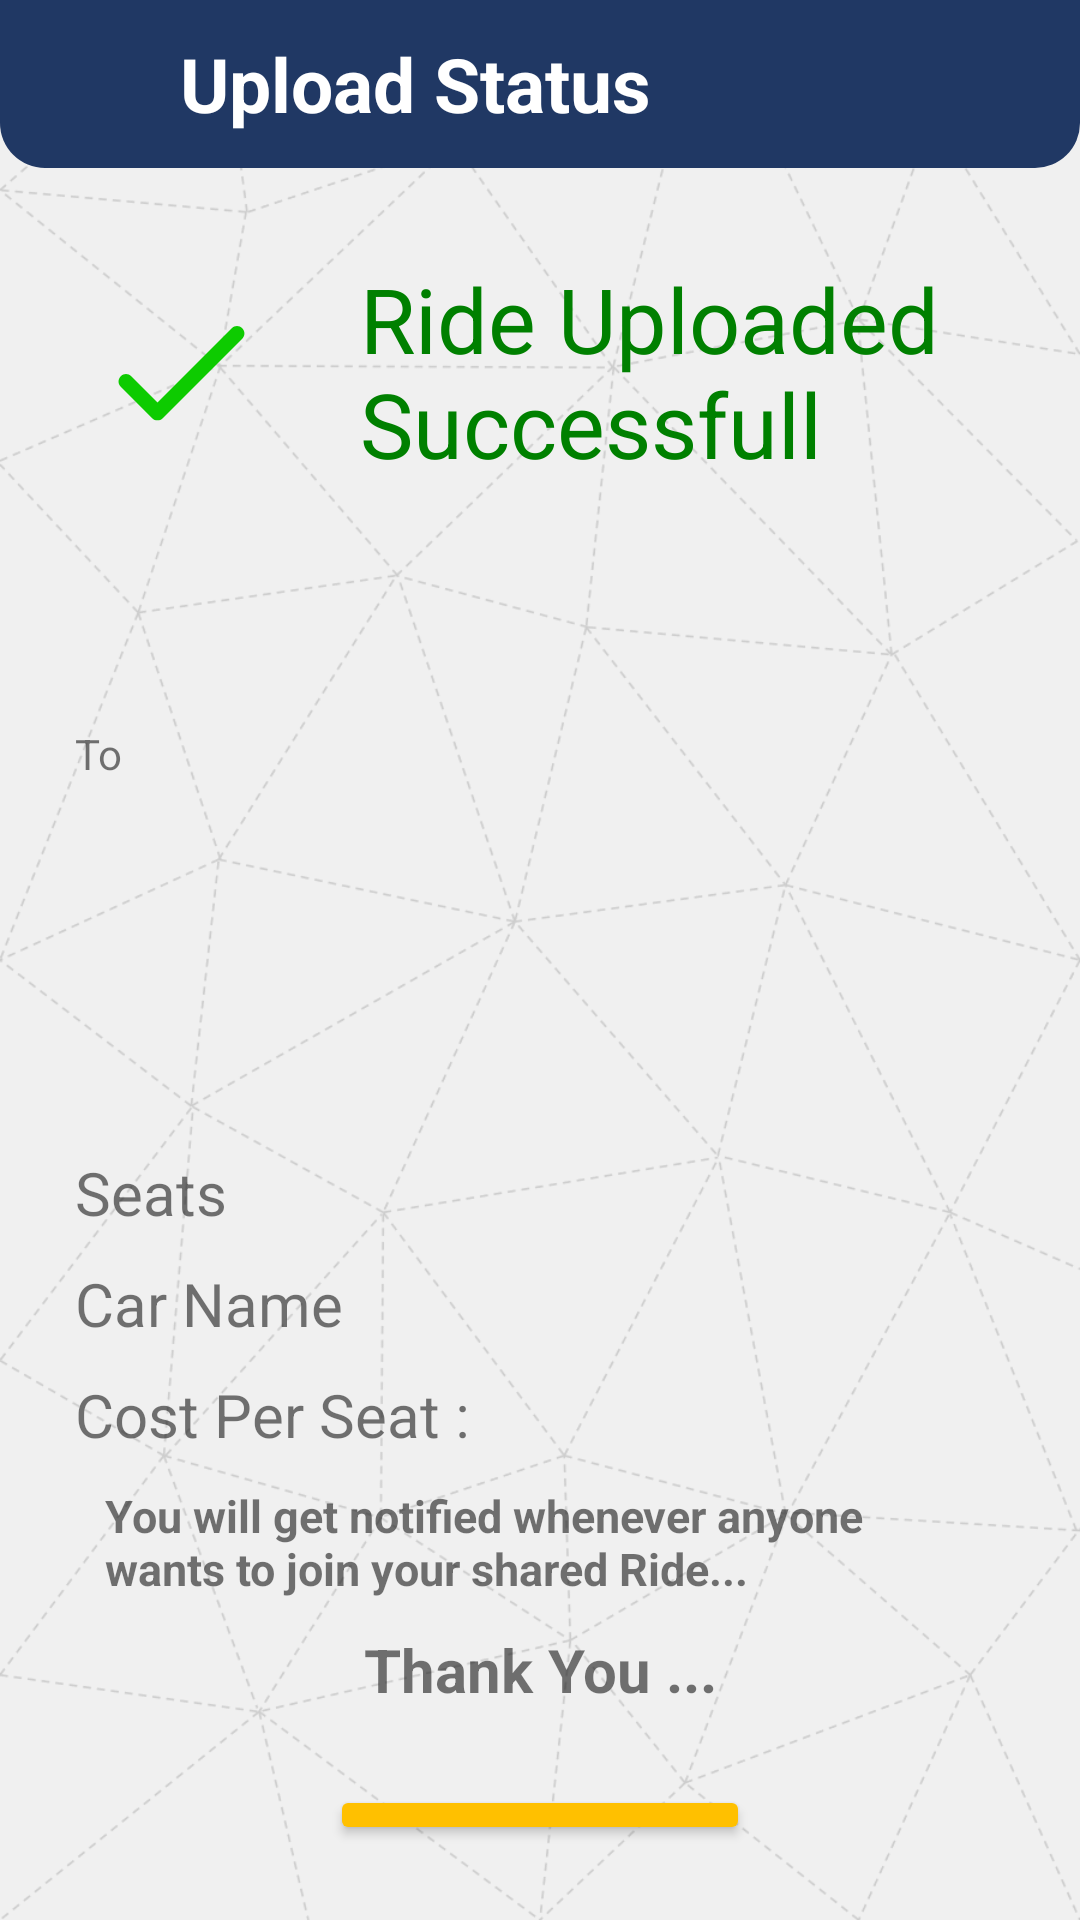

Where icons sit on this 1080*1920 app screen, as (x1=x1, y1=y1, x2=x2, y2=y2):
done: (x1=90, y1=281, x2=270, y2=461)
